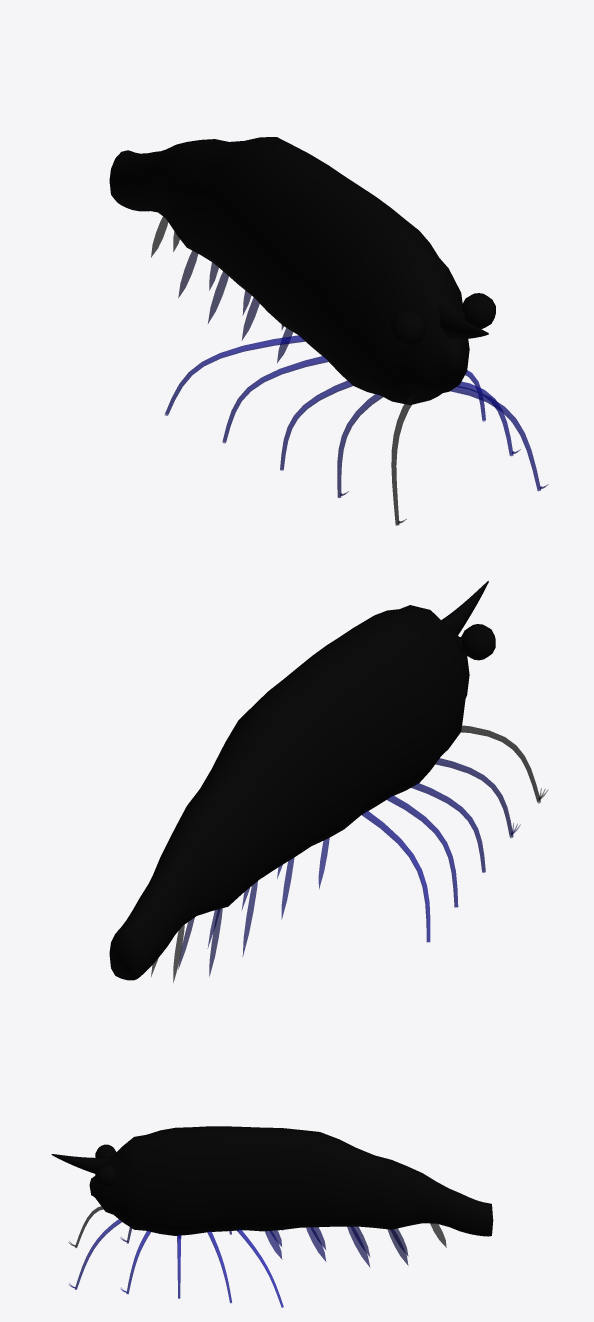
File: crystal-red-shrimp.glb
3 views of the same model, one above another, from view 1: azimuth 30°, elevation 25°; view 2: azimuth 150°, elevation 25°; view 3: azimuth 270°, elevation 25° (orthographic). The views are drawn at different scales.
Parts seen in each view (by area): view 1: crs_body, crs_leg4L, crs_eyeL, crs_eyeR, crs_rostrum, crs_leg0R, crs_leg3L, crs_leg0L, crs_leg2L, crs_leg1L; view 2: crs_body, crs_eyeL, crs_leg4L, crs_leg3L, crs_leg2L, crs_rostrum, crs_leg1L, crs_leg0L; view 3: crs_body, crs_rostrum, crs_eyeR, crs_leg4R, crs_leg0R.
Part boxes in pixels (x1,y1,x2,y2): crs_body: (109,137,469,404); crs_leg4L: (164,335,304,415); crs_eyeL: (391,310,426,346); crs_eyeR: (457,293,495,328); crs_rostrum: (436,304,488,339); crs_leg0R: (450,386,540,491); crs_leg3L: (222,356,328,443); crs_leg0L: (391,395,416,525); crs_leg2L: (280,380,352,470); crs_leg1L: (337,393,382,497); crs_body: (109,605,469,980); crs_eyeL: (456,624,495,660); crs_leg4L: (362,810,430,942); crs_leg3L: (387,795,458,907); crs_leg2L: (411,783,485,872); crs_rostrum: (441,581,488,634); crs_leg1L: (435,758,513,838); crs_leg0L: (461,725,540,803); crs_body: (89,1126,493,1236); crs_rostrum: (51,1154,110,1173); crs_eyeR: (95,1165,116,1187); crs_leg4R: (237,1229,283,1307); crs_leg0R: (75,1219,121,1289).
Bounding box in the file's own units: 0.422 × 0.4449 × 1.29.
